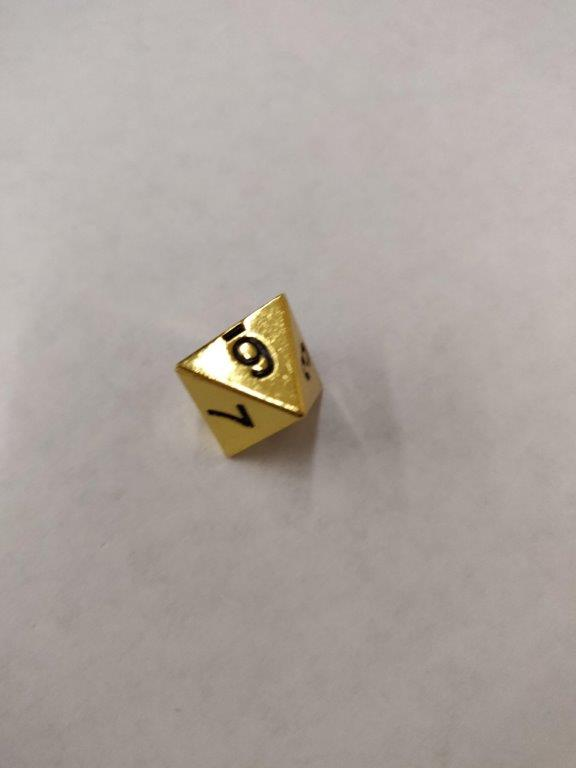d8-6: (174, 292, 324, 462)
